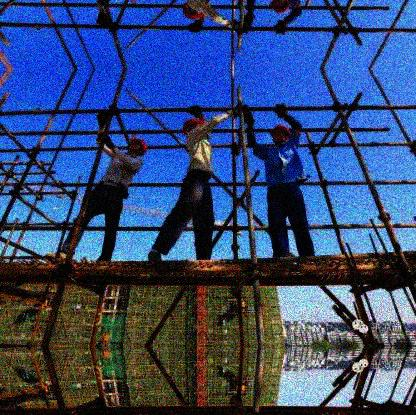helmet: (182, 4, 209, 21), (269, 125, 291, 144), (128, 137, 147, 156), (184, 118, 205, 134), (273, 1, 294, 15)
